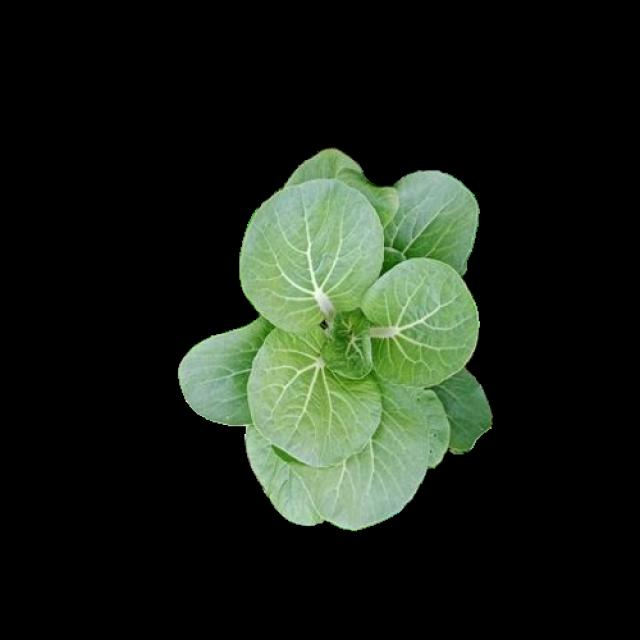not-mature: (182, 148, 493, 528)
unhealthy: (406, 386, 452, 468)
